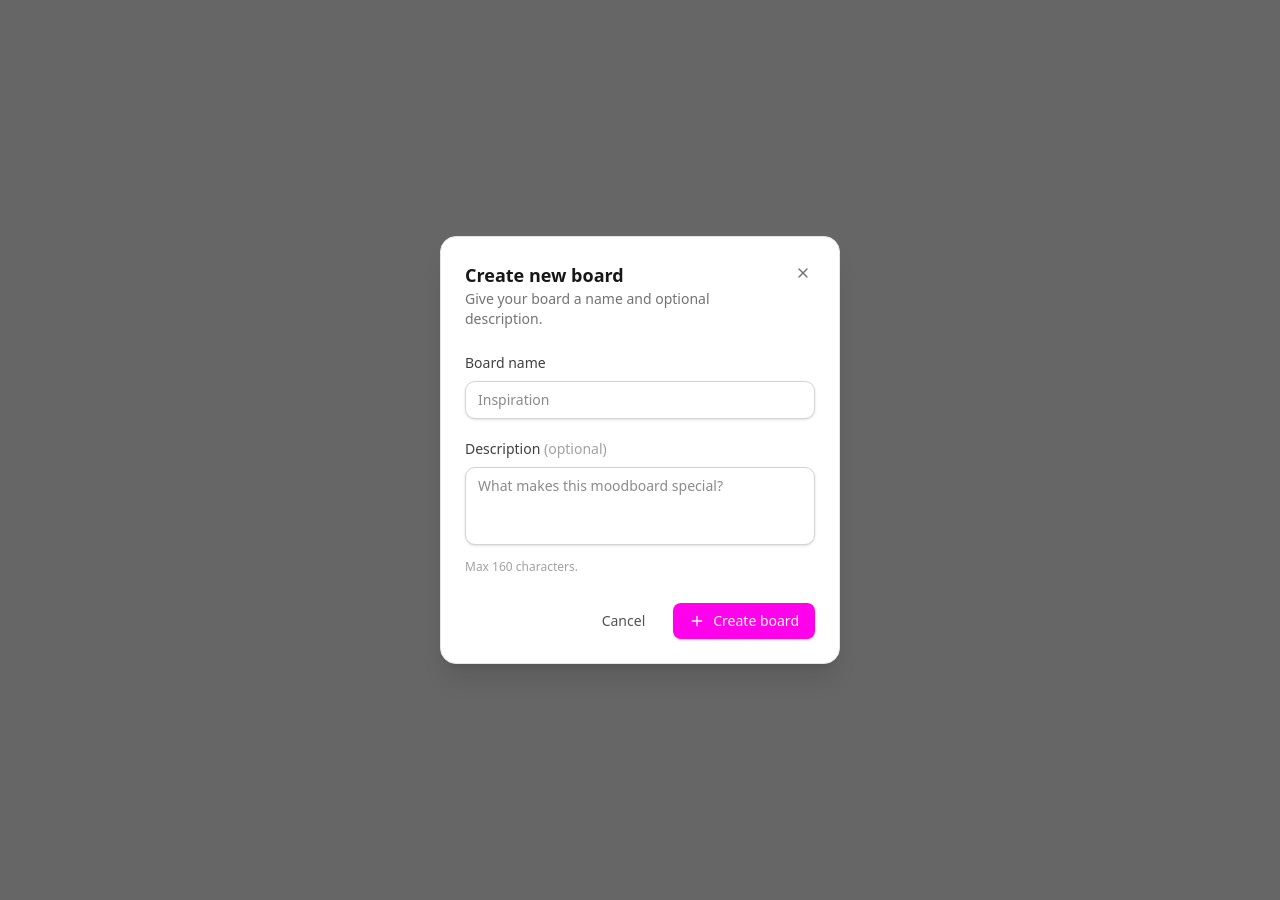
Test: CreateBoardModal › clears form and signals close when cancel is pressed
Type "Draft Board" into the field labelled "Board name".
click(640, 400); type("Draft Board")  # box [465,381,815,419]
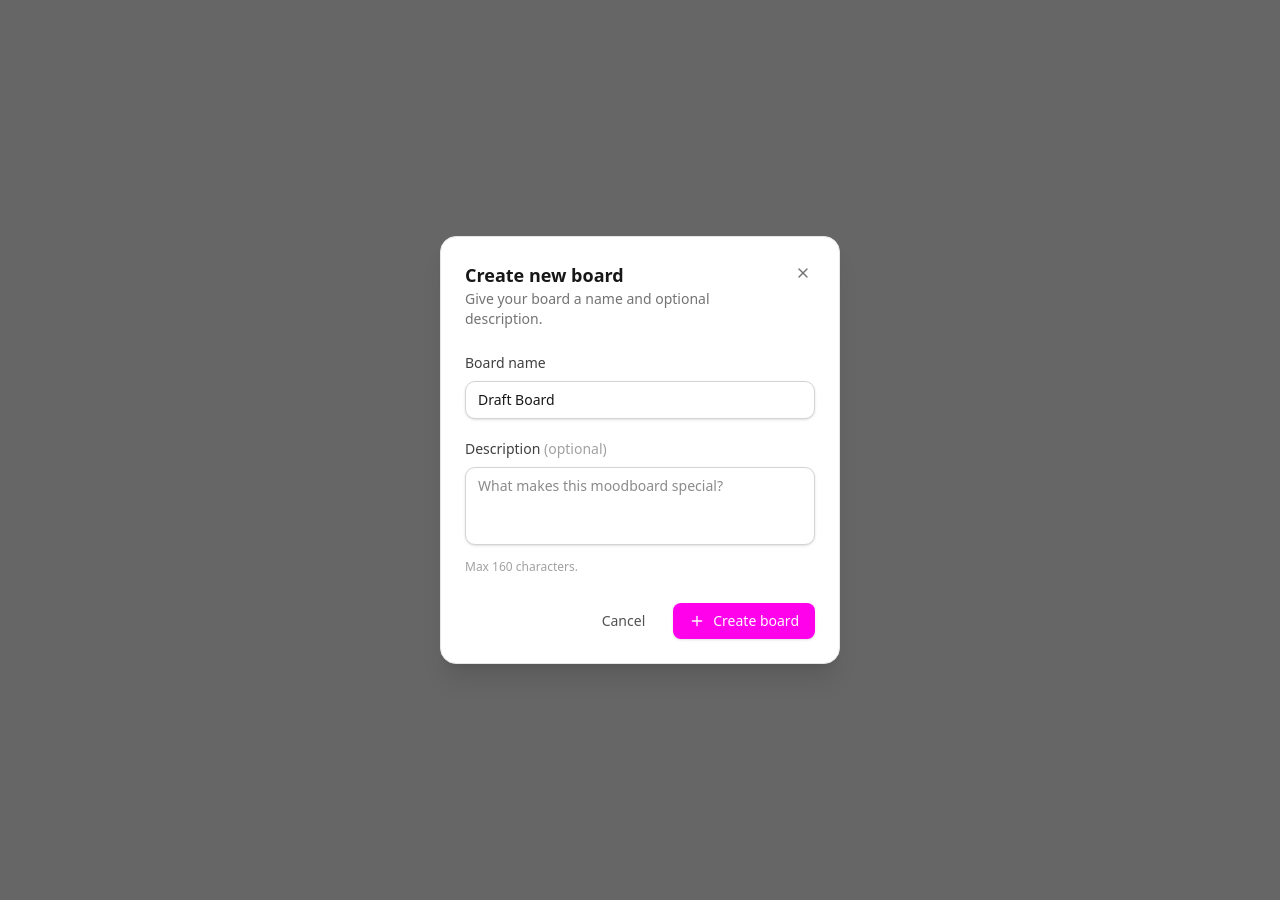
Click the button "Cancel".
click(624, 621)  # box [586,603,661,639]
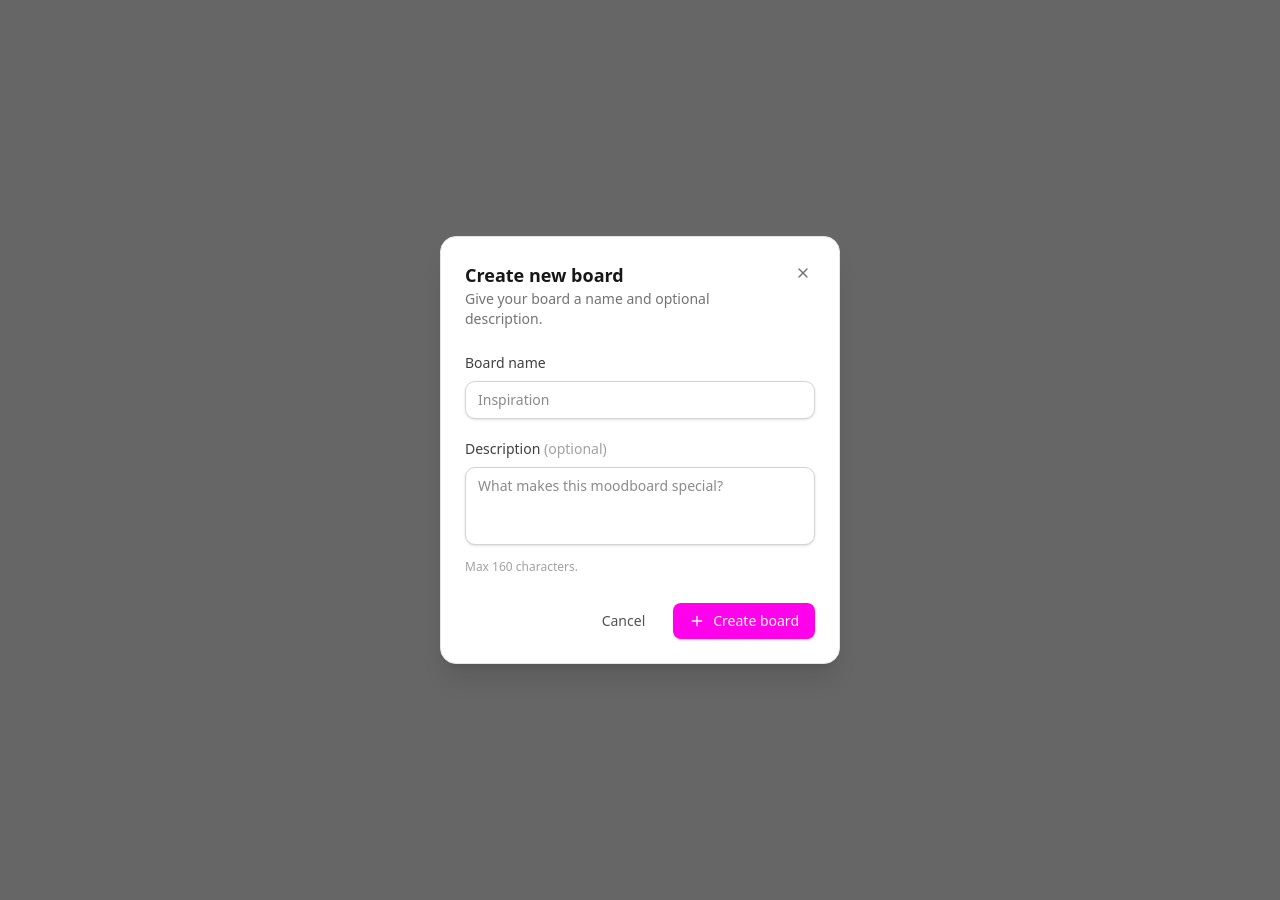
Now the field labelled "Board name" is empty, box [465,381,815,419]
